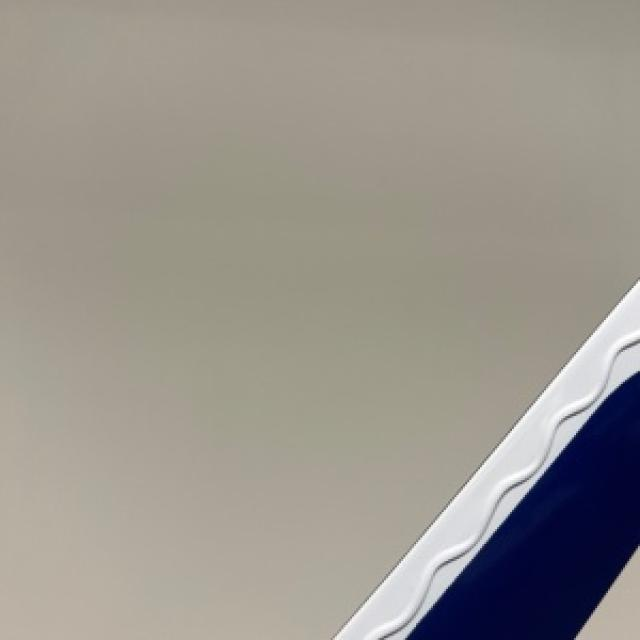healthy: (299, 0, 638, 582)
